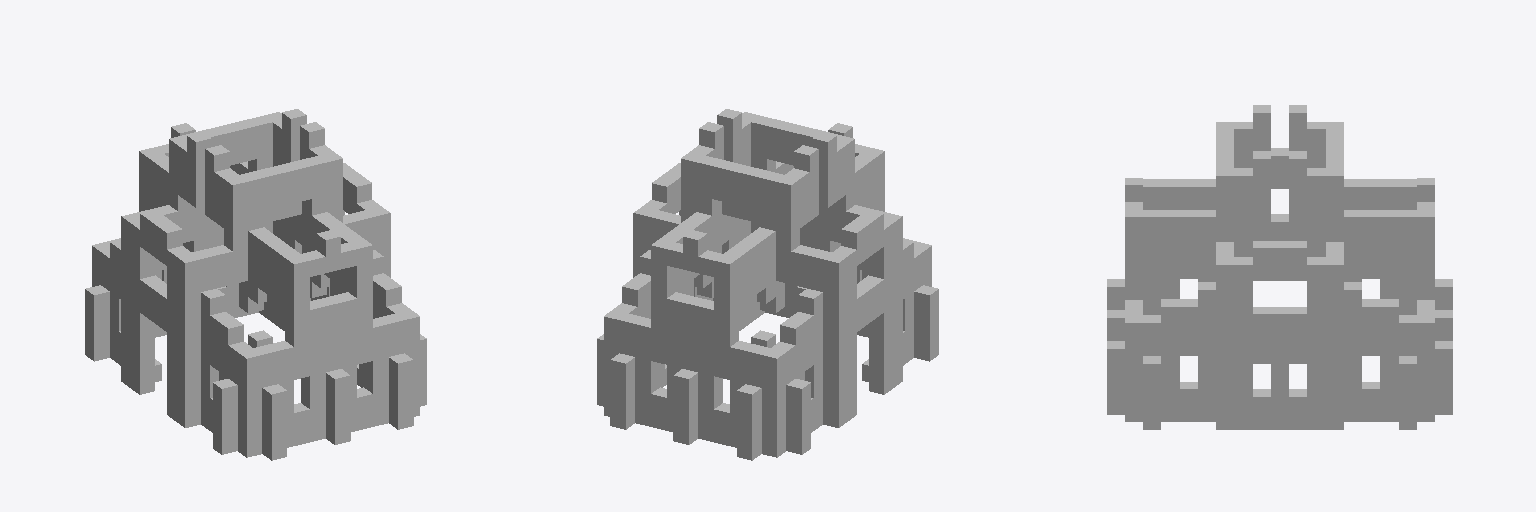
Rendered from mesh_church_sanmigueldelilo_ruins.obj.
3 views of the same model, side by side, from view 1: azimuth 30°, elevation 25°; view 2: azimuth 150°, elevation 25°; view 3: azimuth 270°, elevation 25° (orthographic).
Bounding box in the file's own units: 0.4062 × 0.4688 × 0.5938.